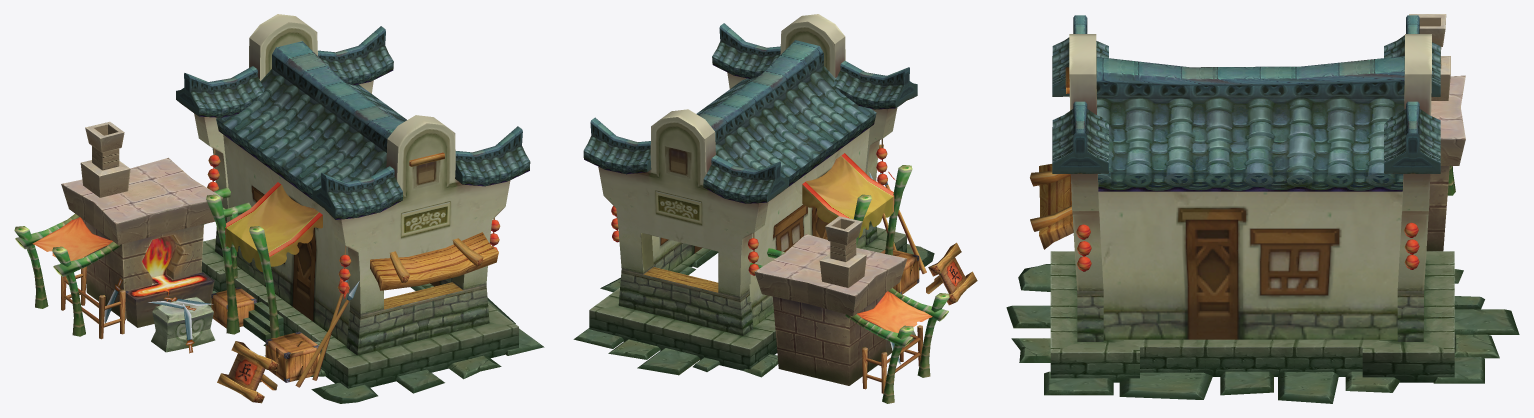
Rendered from taoyuanzhen_wuqidian_01.FBX.
3 renders of one model, left to right at view 1: azimuth 30°, elevation 25°; view 2: azimuth 150°, elevation 25°; view 3: azimuth 270°, elevation 25°, orthographic. The views are drawn at different scales.
Visible parts, largest first — view 1: taoyuanzhen_wuqidian_01; view 2: taoyuanzhen_wuqidian_01; view 3: taoyuanzhen_wuqidian_01.
Part boxes in pixels (box(x1,y1,x2,y2)): taoyuanzhen_wuqidian_01: box(14, 14, 544, 403); taoyuanzhen_wuqidian_01: box(573, 14, 977, 403); taoyuanzhen_wuqidian_01: box(1006, 14, 1519, 403).
Size of the model in its own units: 736 by 451 by 707.
